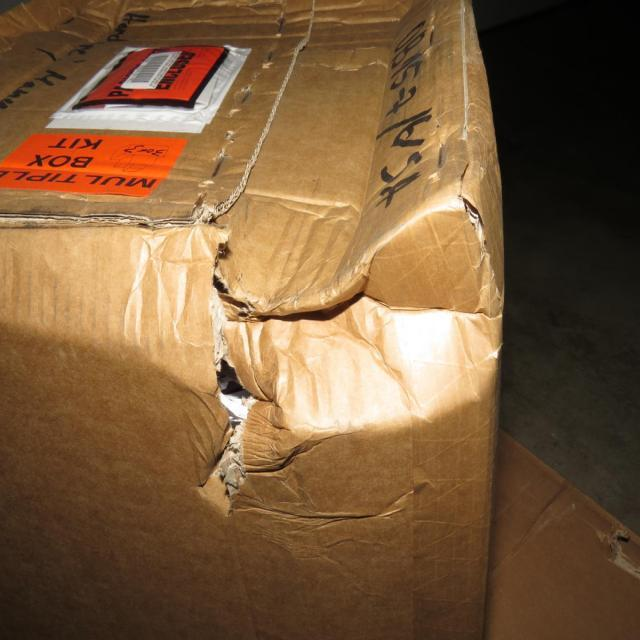hole: (195, 279, 267, 493)
